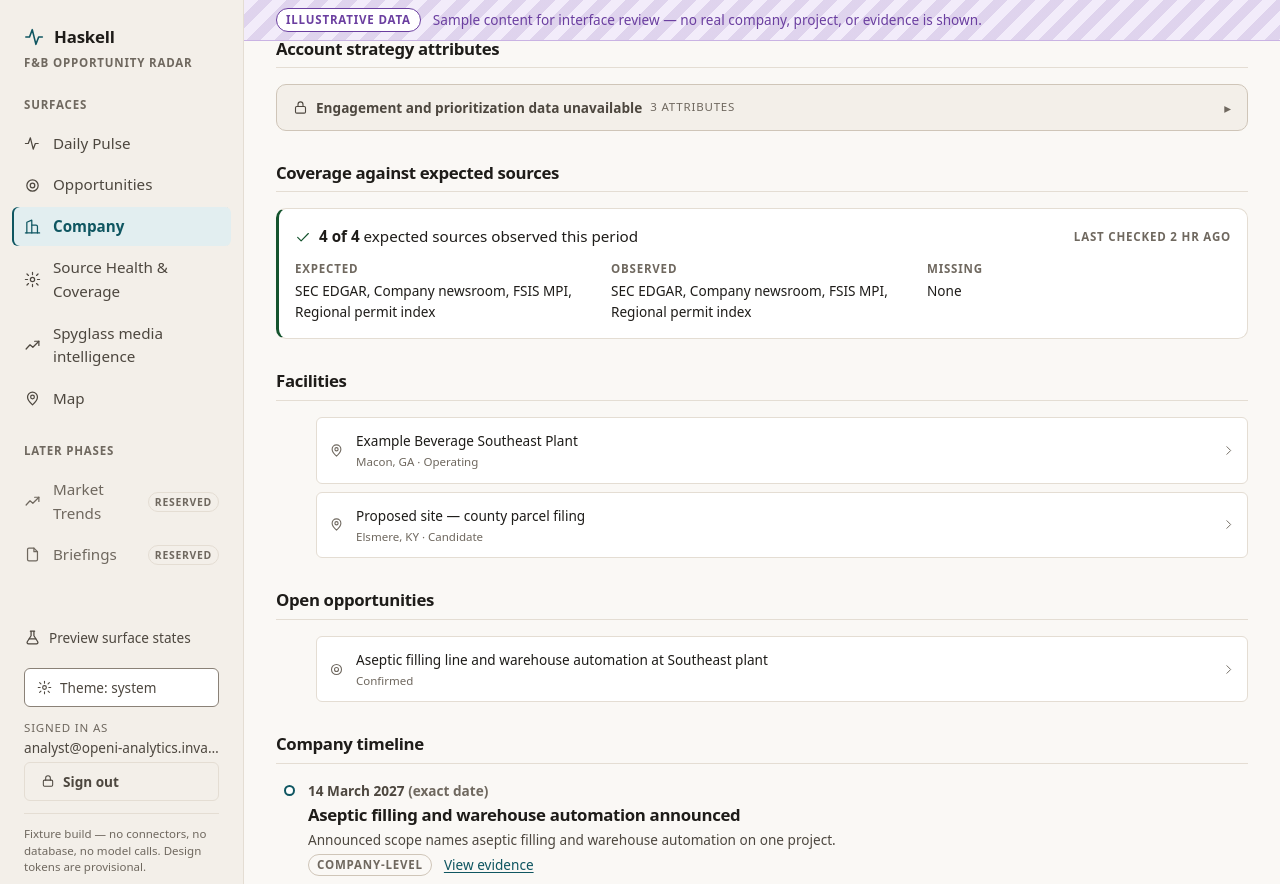
facility detail › is reached from the company rather than from navigation
(page scrolled)
Click the link "Example Beverage Southeast Plant Macon, GA · Operating".
click(467, 440)  # box [316,417,1248,484]
(page scrolled)
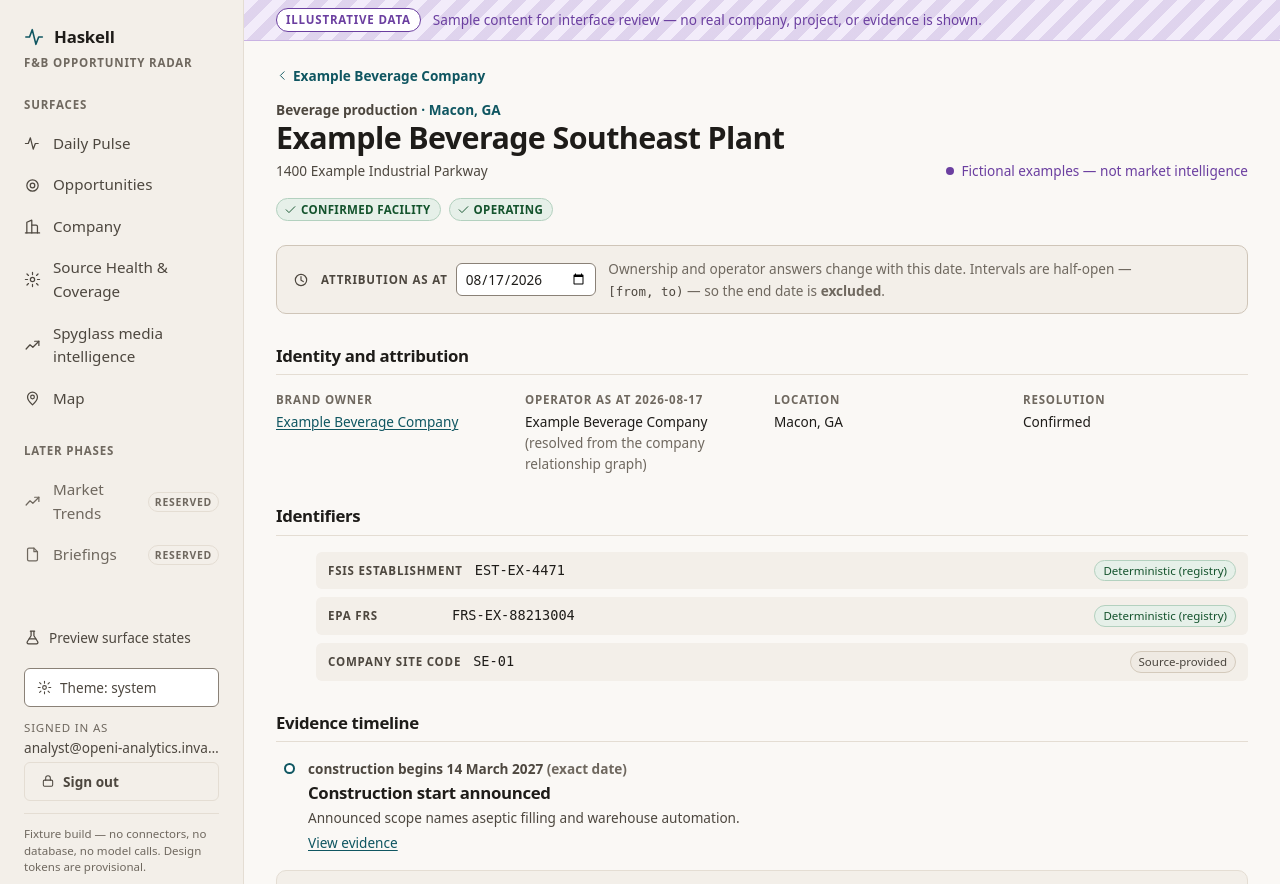
Expected: the heading "Example Beverage Southeast Plant" is shown, [276,120,784,156]
Expected: the 1st link "Example Beverage Company" is shown, [276,65,485,86]
